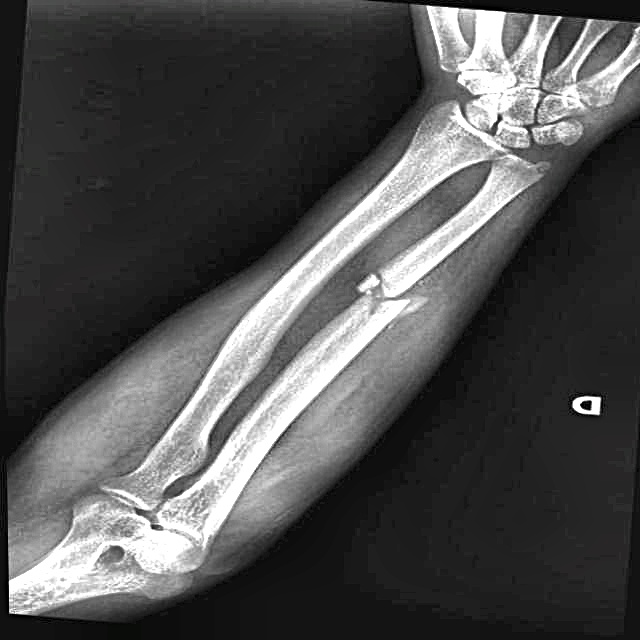Comminuted: (324, 252, 464, 344)
